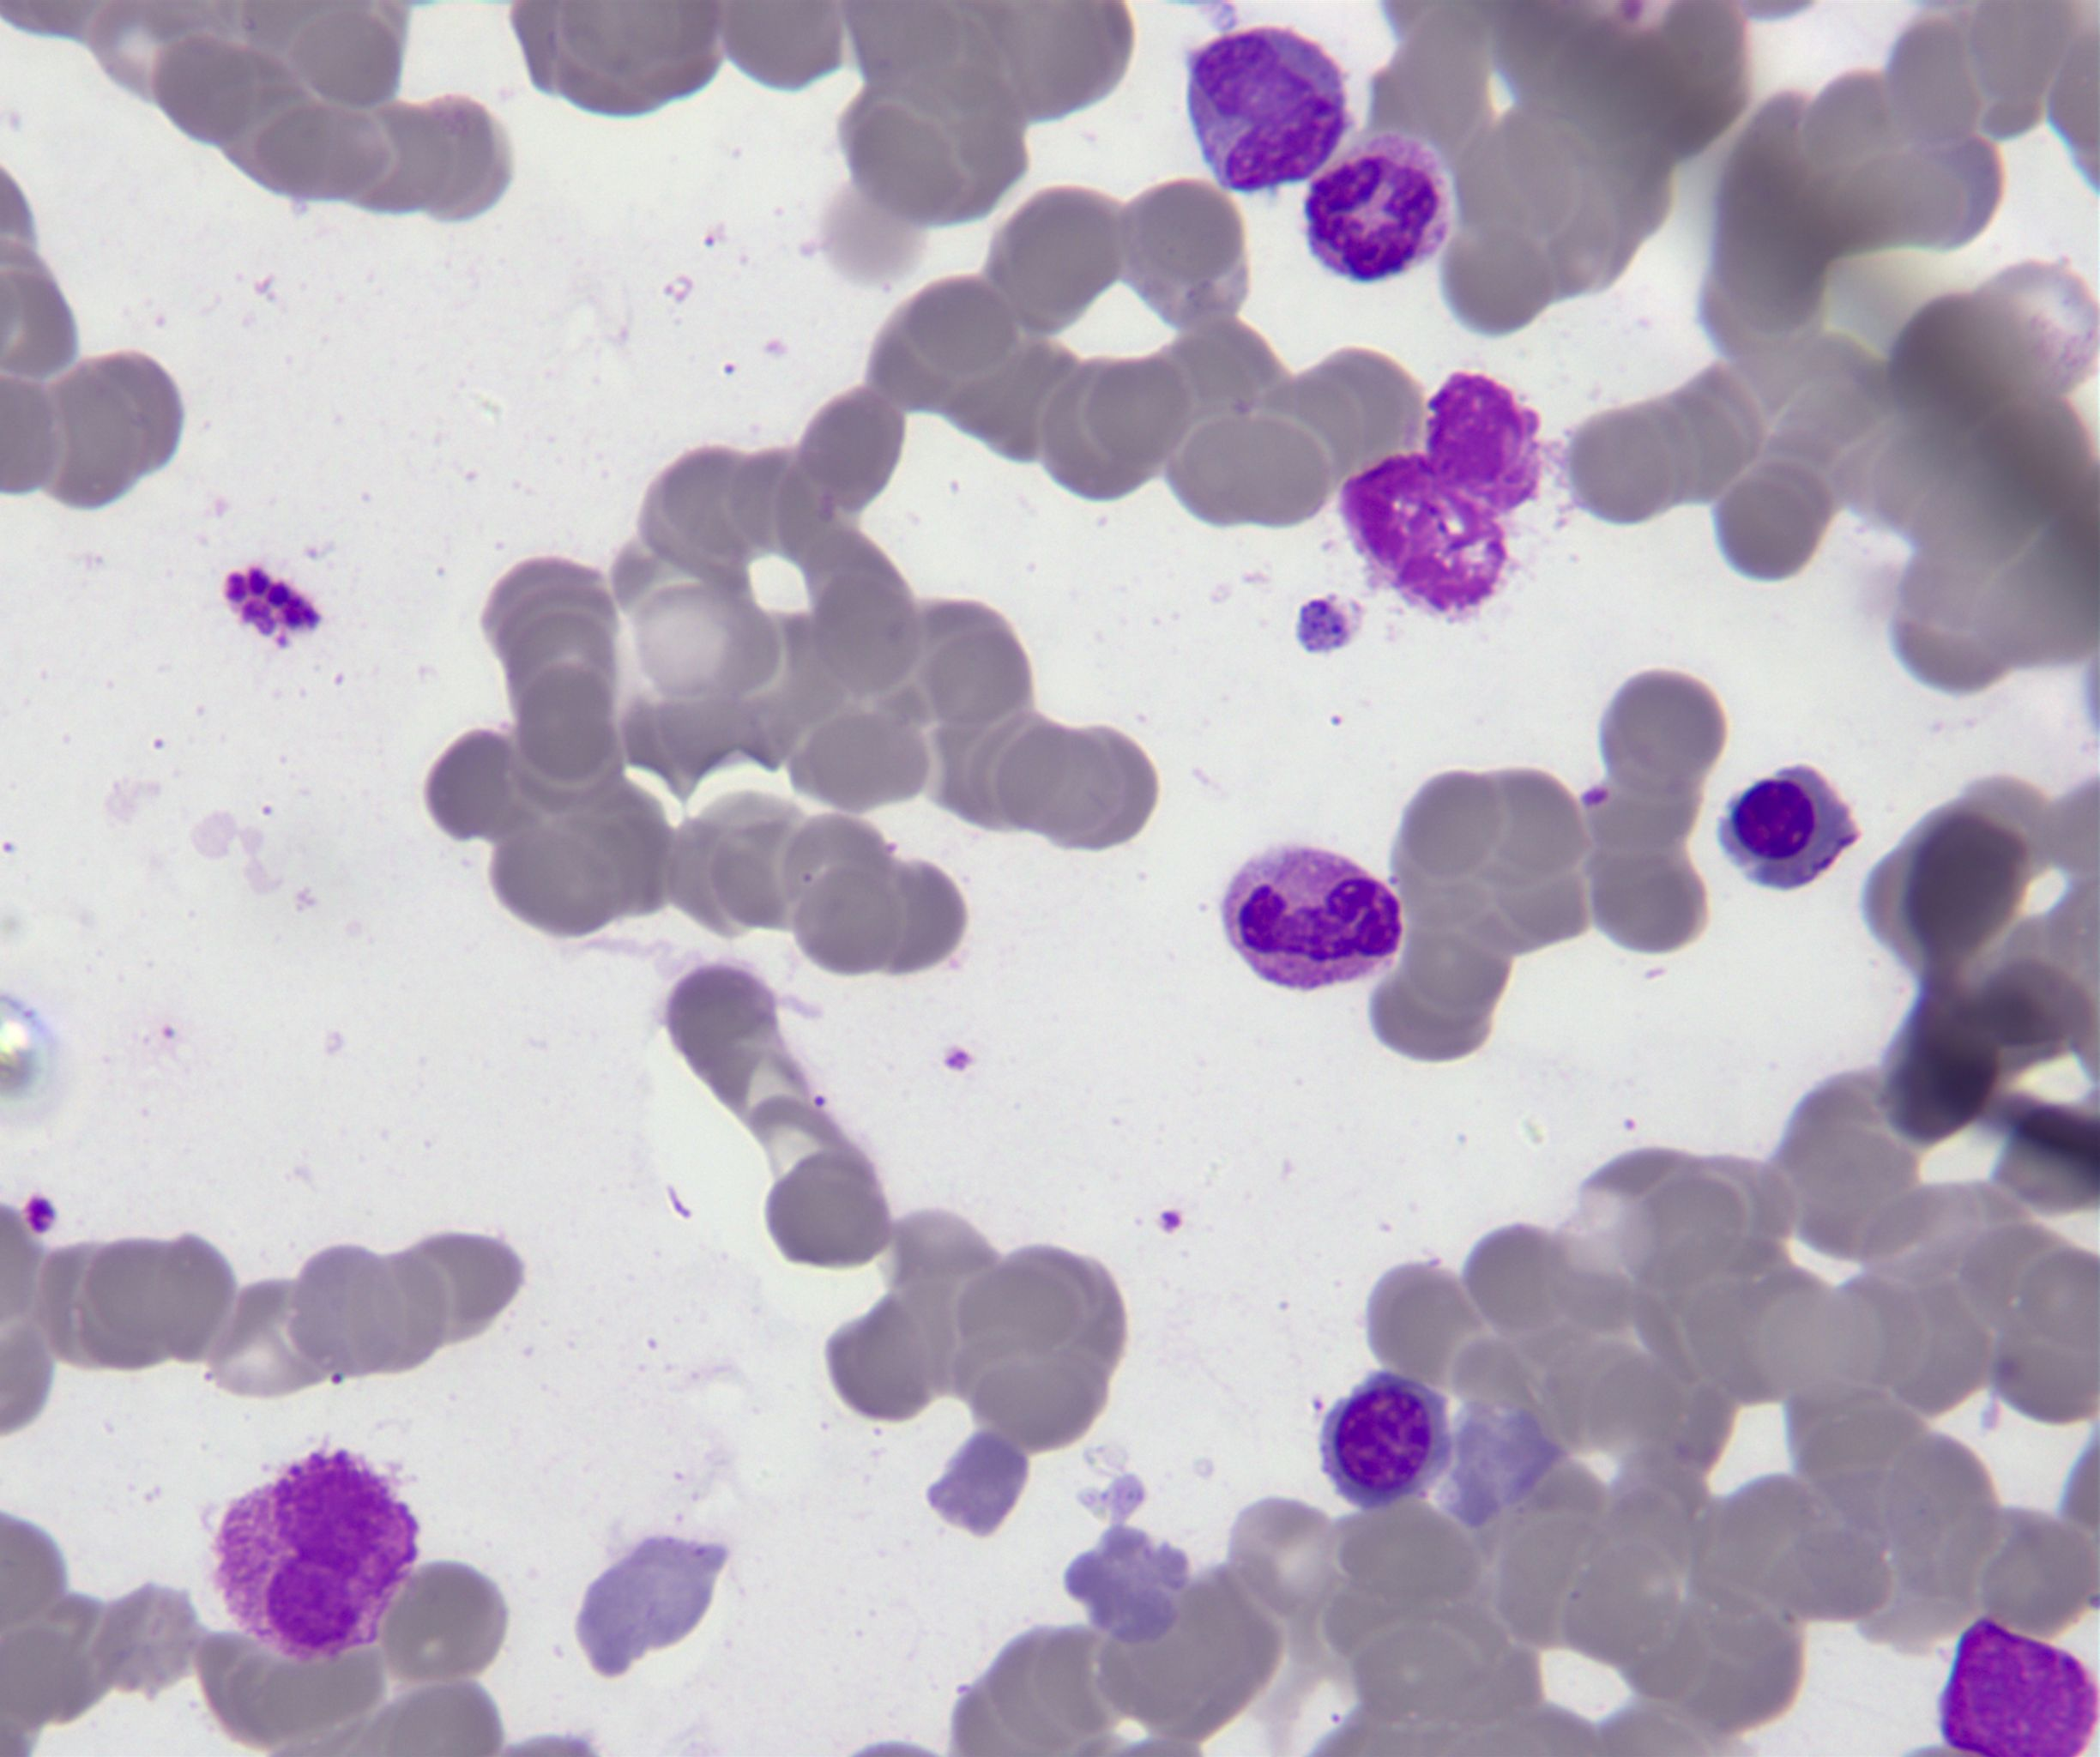24: (1317, 1366, 1455, 1511), (1715, 761, 1863, 895)
4: (1179, 23, 1355, 199)
5: (1214, 841, 1408, 998), (1294, 127, 1460, 288)
x: (209, 1446, 420, 1670)
